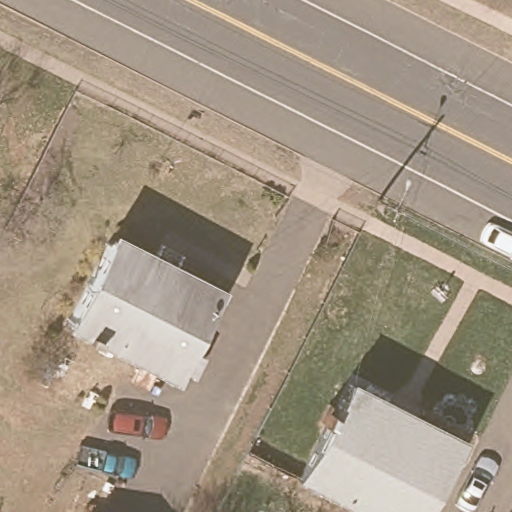DT: (380, 179, 413, 222)
